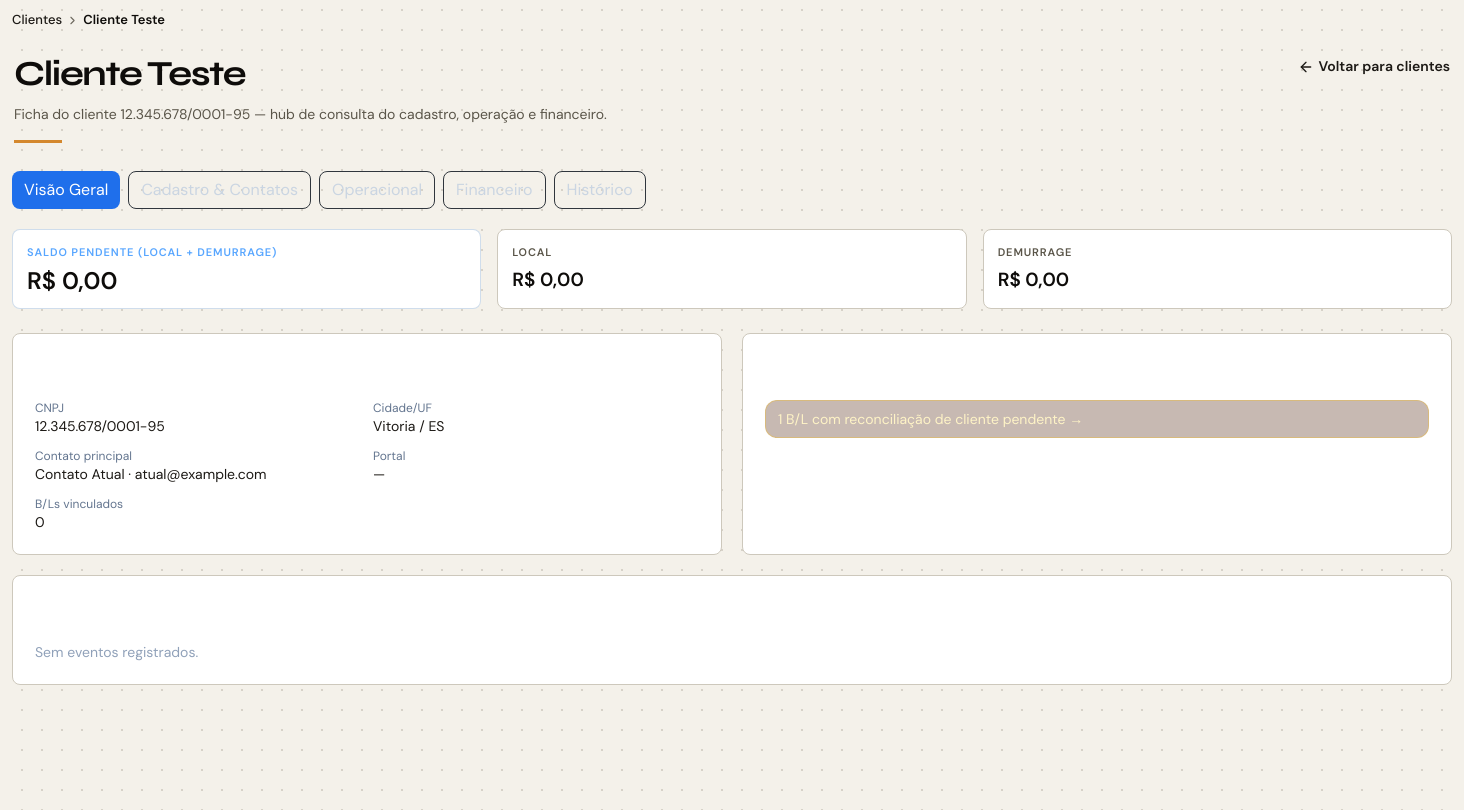
it: ClienteFicha user behaviours › abre na Visão Geral por padrão e troca de aba via clique
This screenshot has width=1464, height=810.
Click the tab "Cadastro & Contatos" at (220, 190), box [128, 171, 311, 209]
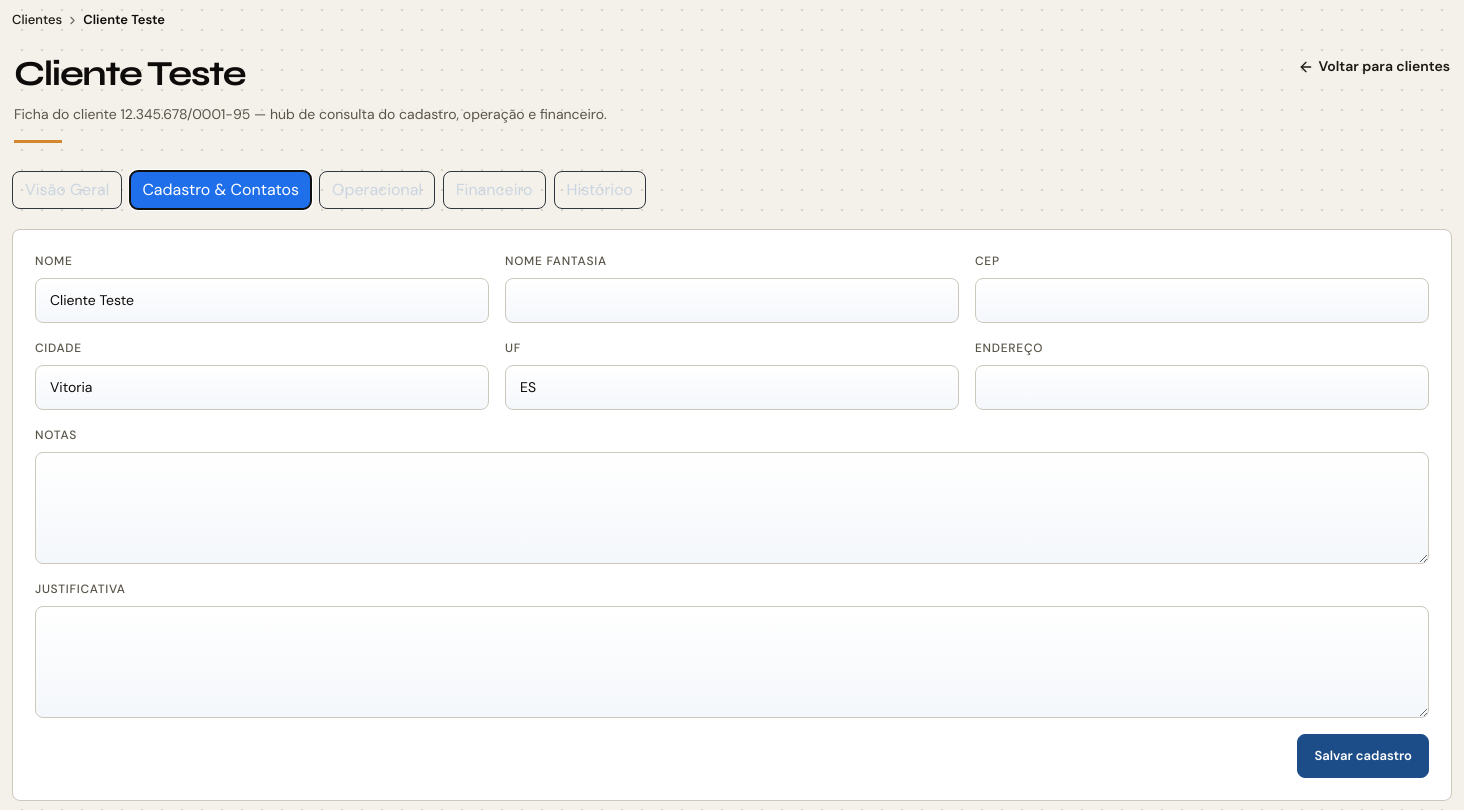
Now the button "Salvar cadastro" is shown, box [1298, 734, 1429, 778]
